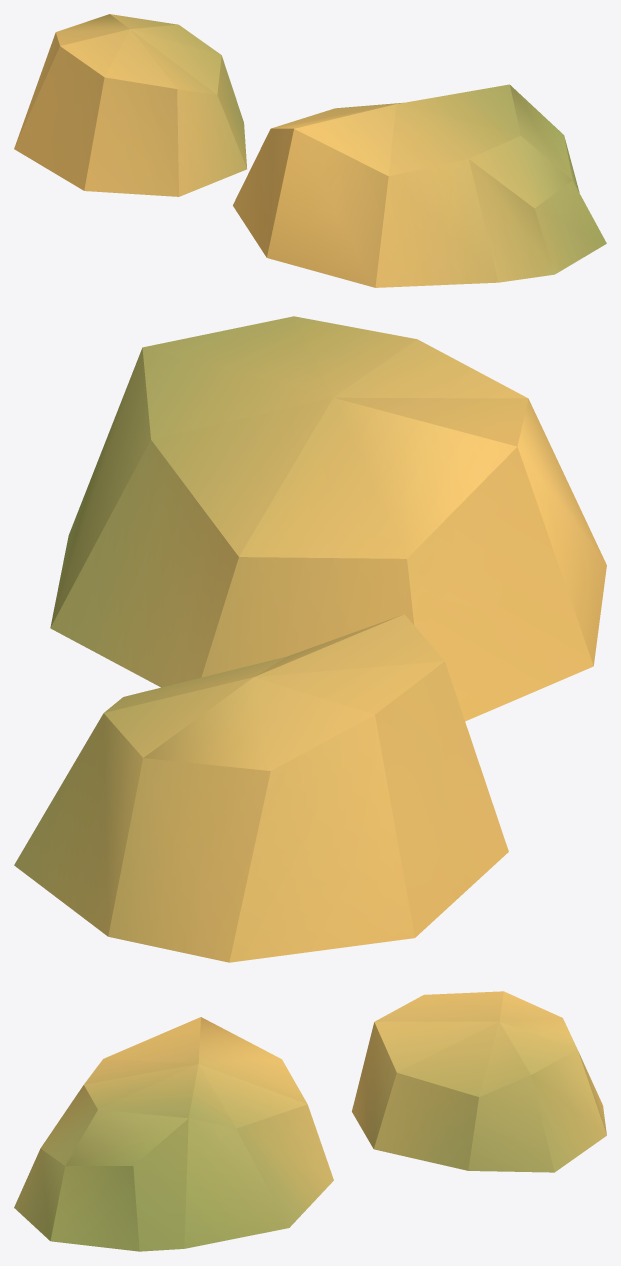
File: SM_APP_Gas_Rock_small_B.glb
The picture shows the model from 3 angles, top to bottom: view 1: azimuth 30°, elevation 25°; view 2: azimuth 150°, elevation 25°; view 3: azimuth 270°, elevation 25°; orthographic projection. The views are drawn at different scales.
Visible parts, largest first — view 1: SM_APP_Gas_Rock_small_B; view 2: SM_APP_Gas_Rock_small_B; view 3: SM_APP_Gas_Rock_small_B.
Part boxes in pixels (x1,y1,x2,y2): SM_APP_Gas_Rock_small_B: (14, 14, 606, 287); SM_APP_Gas_Rock_small_B: (14, 316, 606, 962); SM_APP_Gas_Rock_small_B: (14, 991, 606, 1251).
Size of the model in its own units: 2.24 by 0.6756 by 3.2.
Materials: 1 (1 with a texture image).
